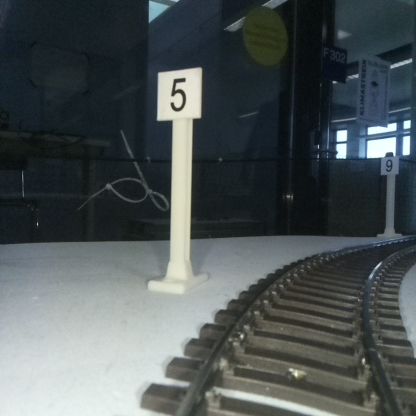white-info-5: (157, 69, 201, 291)
white-info-9: (381, 155, 398, 236)
